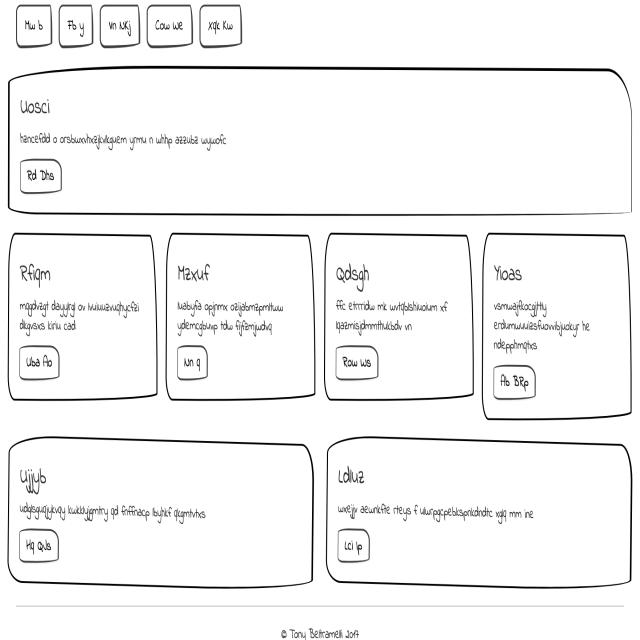Button: (16, 345, 76, 389), (13, 157, 70, 201), (331, 342, 384, 387), (175, 345, 219, 389), (490, 362, 536, 403), (333, 525, 378, 566), (15, 526, 60, 565)
Card: (3, 68, 640, 214), (8, 432, 314, 595), (326, 433, 635, 594), (484, 221, 634, 423), (165, 226, 316, 410), (8, 228, 160, 401), (328, 228, 473, 405)
Footer: (0, 602, 640, 640)
Heading 6: (490, 249, 533, 297), (335, 250, 378, 292), (15, 87, 60, 126), (15, 256, 60, 289), (15, 461, 53, 496), (177, 257, 217, 289), (334, 457, 376, 487)
Navigation Bar: (11, 2, 255, 56)
Paragraph: (17, 124, 230, 157), (15, 495, 239, 526), (489, 297, 596, 358), (333, 497, 541, 526), (18, 291, 144, 338), (333, 294, 450, 340), (171, 296, 283, 342)
